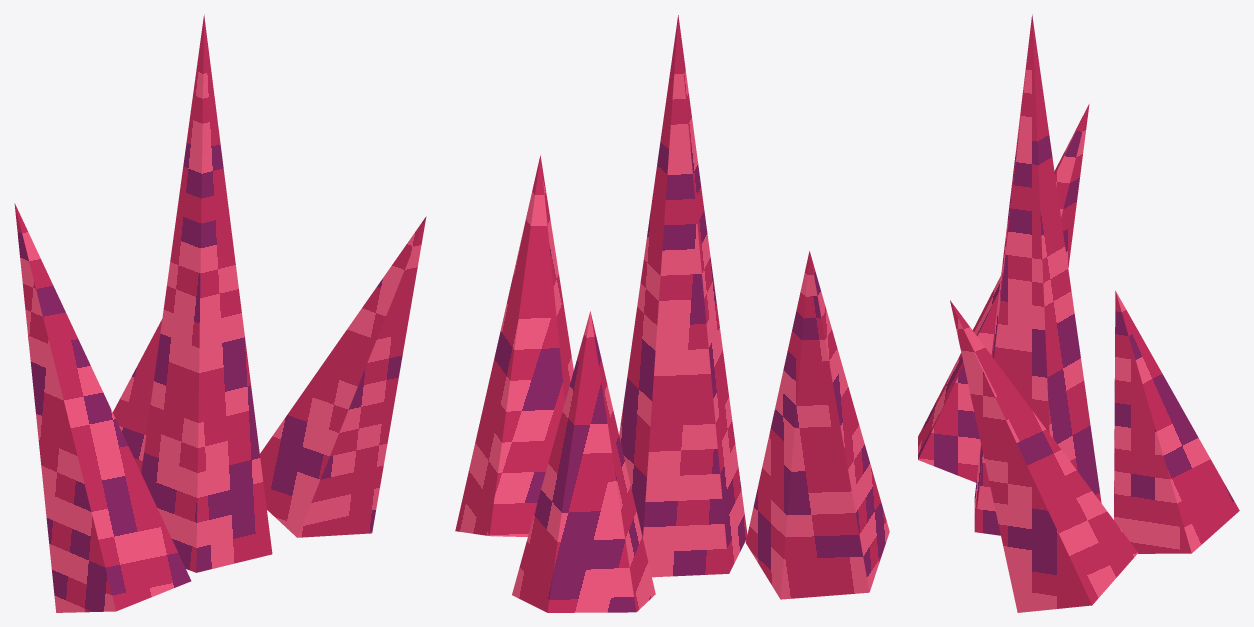
Rendered from r02_cristal_rosa.glb.
The picture shows the model from 3 angles, left to right: view 1: azimuth 30°, elevation 25°; view 2: azimuth 150°, elevation 25°; view 3: azimuth 270°, elevation 25°; orthographic projection. The views are drawn at different scales.
Parts seen in each view (by area): view 1: r02_cristal_rosa; view 2: r02_cristal_rosa; view 3: r02_cristal_rosa.
Boxes of the visible parts, <box> form: r02_cristal_rosa: <box>14,14,426,612</box>; r02_cristal_rosa: <box>455,15,889,612</box>; r02_cristal_rosa: <box>918,14,1239,612</box>.
Size of the model in its own units: 0.9887 by 1.47 by 0.8155.
1 material, 1 textured.
